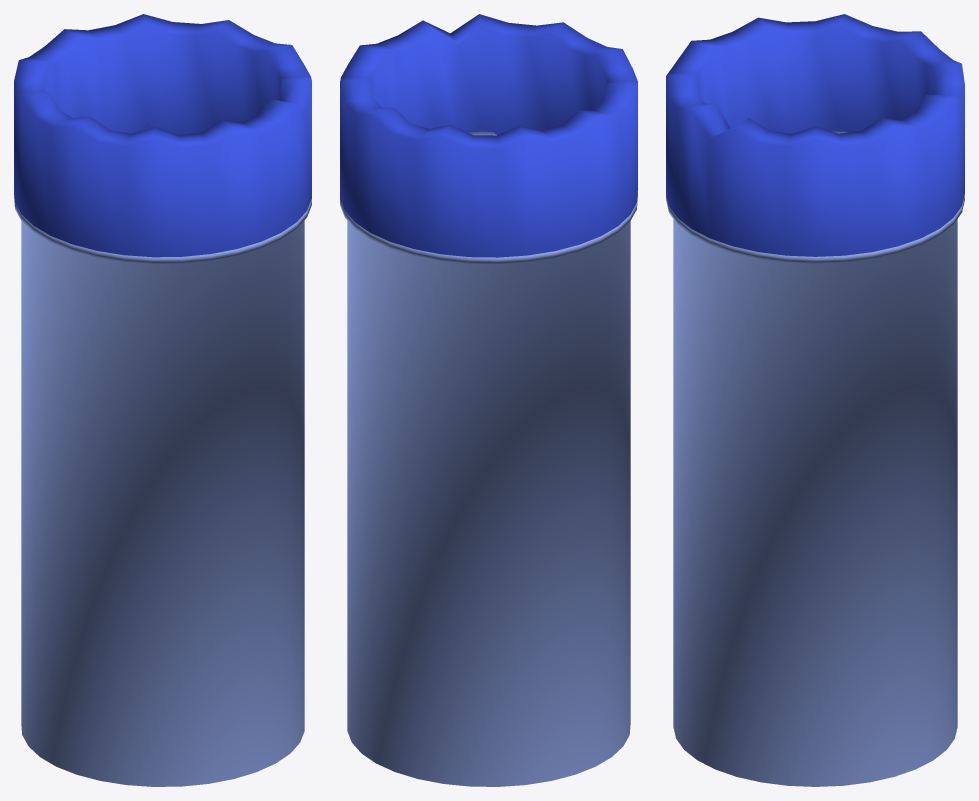
The model's file is dog.glb.
3 renders of one model, left to right at view 1: azimuth 30°, elevation 25°; view 2: azimuth 150°, elevation 25°; view 3: azimuth 270°, elevation 25°, orthographic.
Visible parts, largest first — view 1: Circle, Circle.001; view 2: Circle, Circle.001; view 3: Circle, Circle.001.
Boxes of the visible parts, x1,y1,x2,y2 form: Circle: (14,192,311,786); Circle.001: (14,14,311,257); Circle: (340,131,637,786); Circle.001: (340,14,637,257); Circle: (666,131,964,786); Circle.001: (666,14,964,256).
Size of the model in its own units: 2.73 by 6.56 by 2.73.
